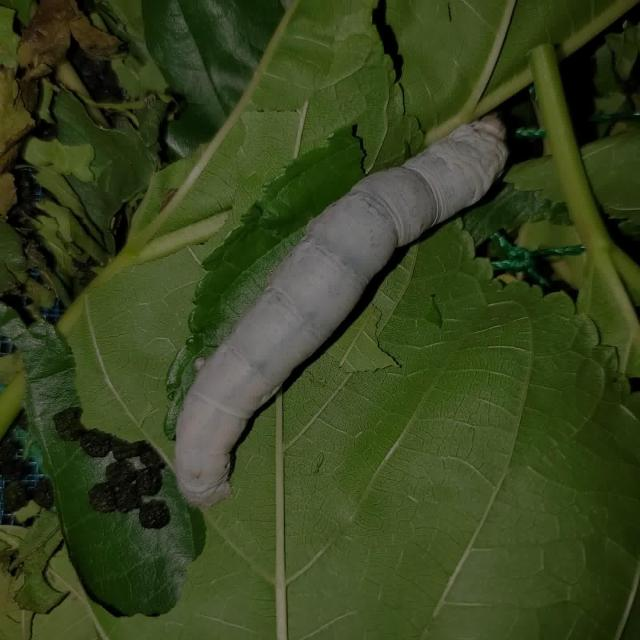Healthy: (147, 85, 532, 548)
